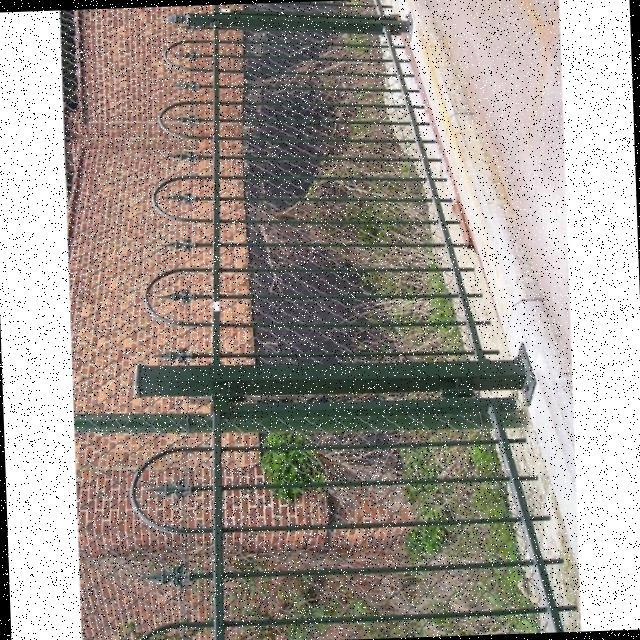fence line: (158, 20, 578, 639)
